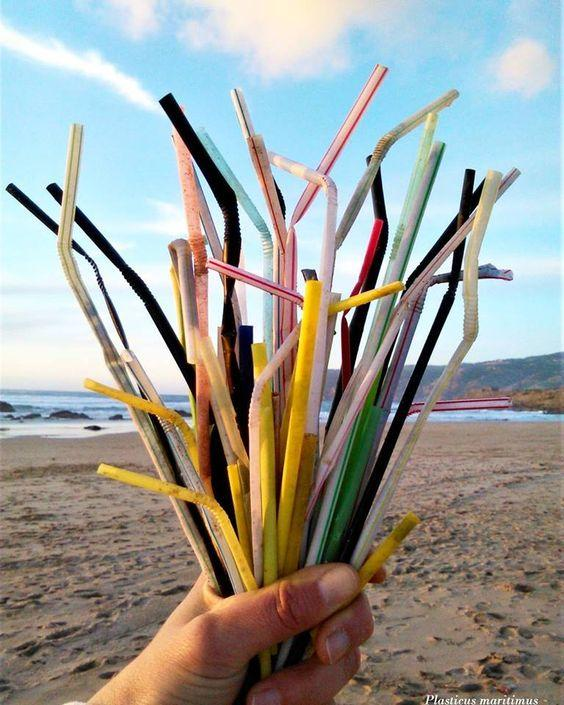PP: (188, 89, 435, 563)
